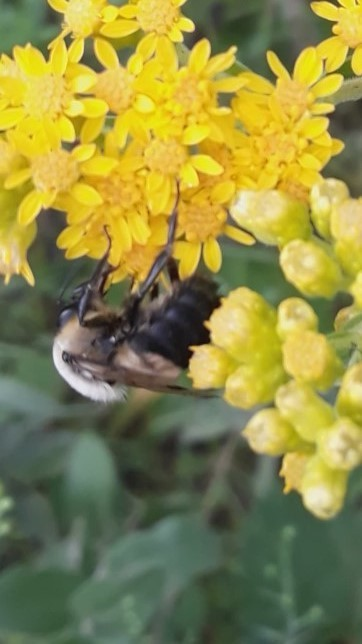bumblebee: (49, 179, 230, 409)
